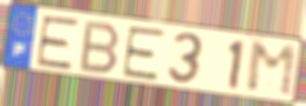1: (226, 37, 248, 91)
3: (165, 31, 207, 86)
B: (76, 19, 123, 76)
E: (34, 14, 82, 72), (120, 25, 168, 82)
M: (245, 40, 299, 99)
